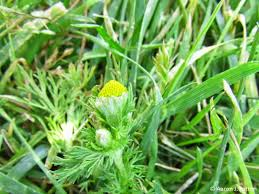pineple: (33, 67, 156, 180)
